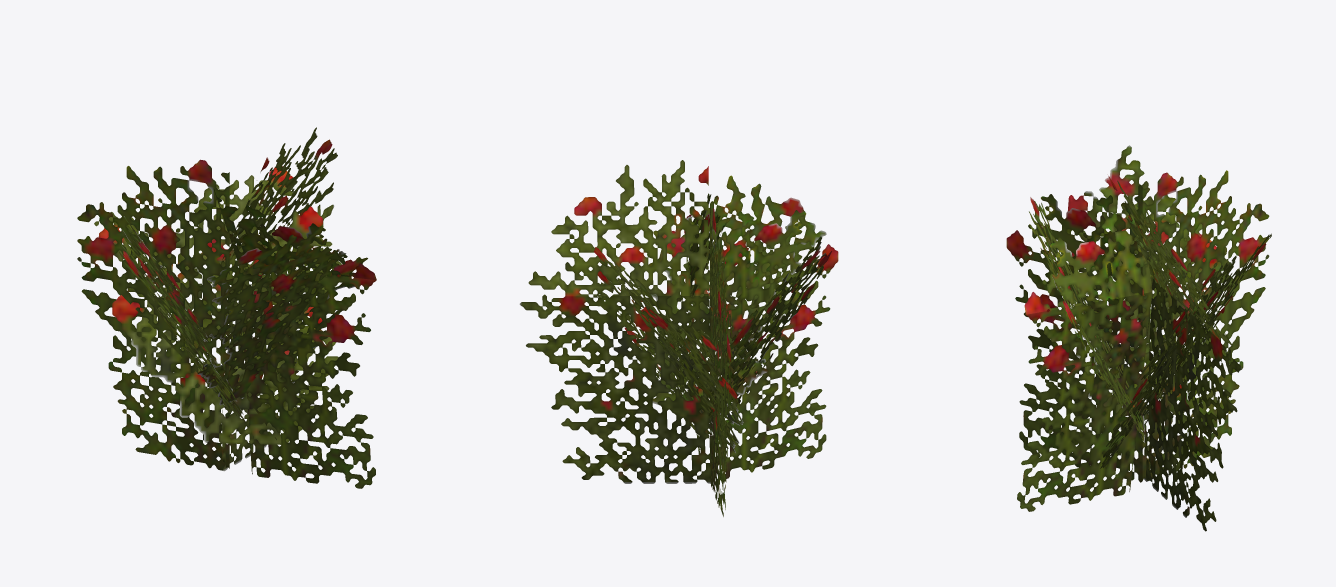
File: rose_bush_bottom.obj
3 views of the same model, side by side, from view 1: azimuth 30°, elevation 25°; view 2: azimuth 150°, elevation 25°; view 3: azimuth 270°, elevation 25° (orthographic). The views are drawn at different scales.
Parts seen in each view (by area): view 1: plane; view 2: plane; view 3: plane.
Boxes of the visible parts, <box> form: plane: <box>77,127,376,488</box>; plane: <box>519,160,838,516</box>; plane: <box>1006,145,1271,531</box>.
Bounding box in the file's own units: 2.62 × 3.04 × 2.48.
